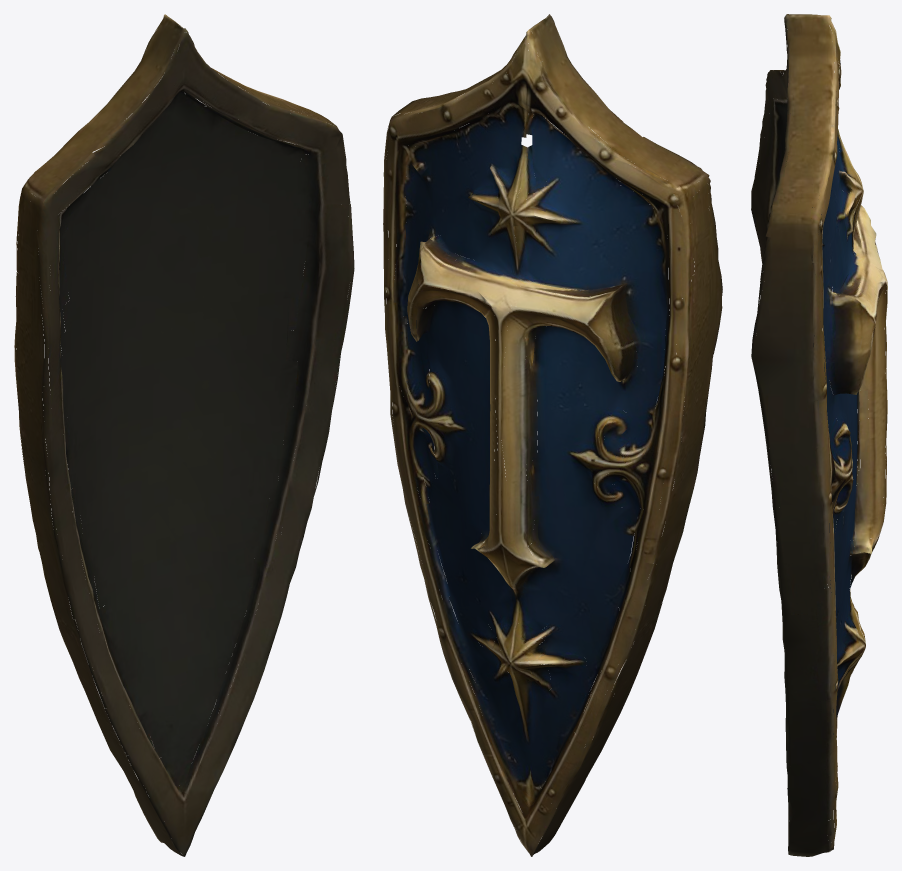
The model's file is kite_t_blue.glb.
The picture shows the model from 3 angles, left to right: view 1: azimuth 30°, elevation 25°; view 2: azimuth 150°, elevation 25°; view 3: azimuth 270°, elevation 25°; orthographic projection.
Visible parts, largest first — view 1: kite_t_blue; view 2: kite_t_blue; view 3: kite_t_blue.
Part boxes in pixels (x1=…): kite_t_blue: x1=14, y1=14, x2=354, y2=856; kite_t_blue: x1=383, y1=14, x2=722, y2=856; kite_t_blue: x1=751, y1=14, x2=887, y2=856.
Size of the model in its own units: 0.3592 by 0.9189 by 0.135.
1 material, 1 textured.
